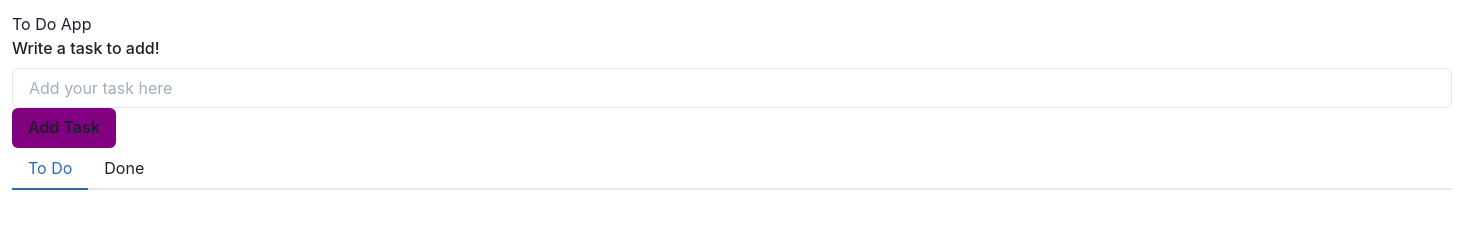
Test: App › should add a to do task and render it to the list
Step 1. Type "clean" into the field with placeholder "Add your task here" → (732, 88), box x1=12 y1=68 x2=1452 y2=108
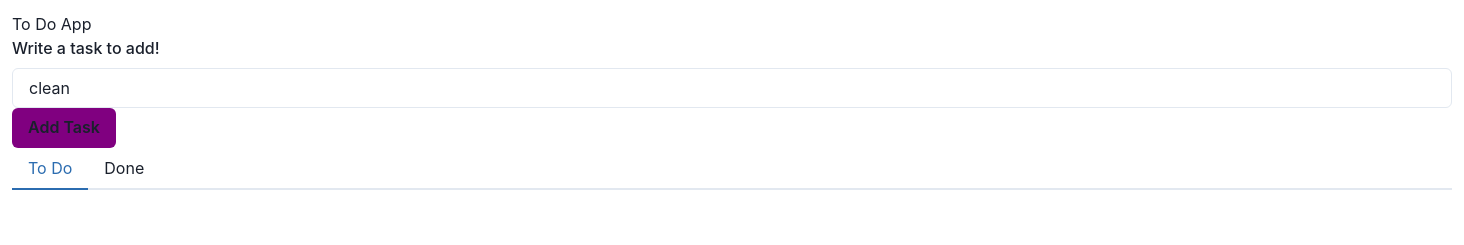
Step 2. Click the button "Add Task" → (64, 128), box x1=12 y1=108 x2=116 y2=148
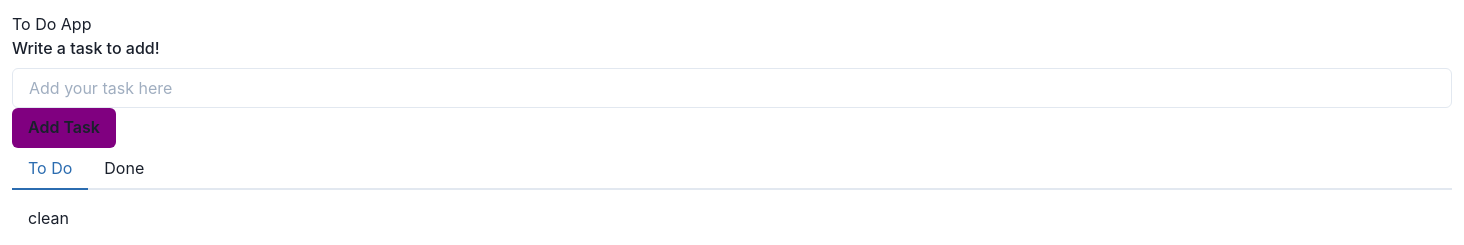
Expected: the list item "clean" is shown, x1=28 y1=208 x2=69 y2=228
